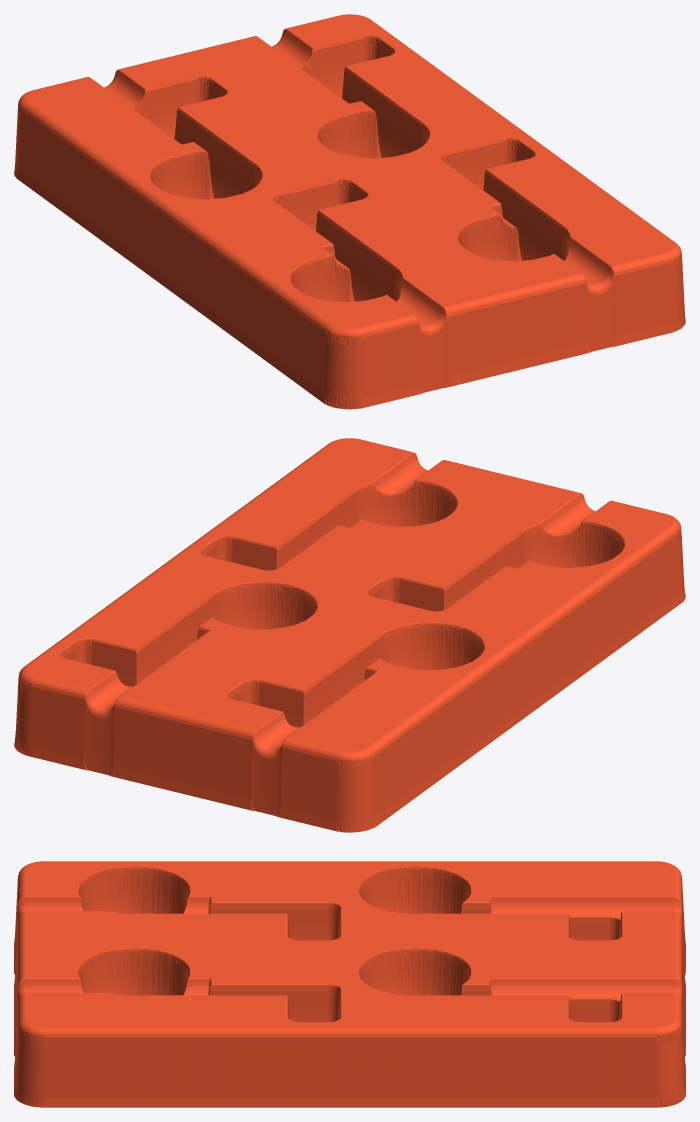
Rendered from mold.glb.
3 renders of one model, top to bottom at view 1: azimuth 30°, elevation 25°; view 2: azimuth 150°, elevation 25°; view 3: azimuth 270°, elevation 25°, orthographic.
Visible parts, largest first — view 1: geometry_0; view 2: geometry_0; view 3: geometry_0.
Boxes of the visible parts, left/top/right/bottom form: geometry_0: left=14, top=14, right=685, bottom=409; geometry_0: left=14, top=438, right=685, bottom=832; geometry_0: left=14, top=861, right=685, bottom=1107.
Size of the model in its own units: 0.1214 by 0.0245 by 0.1968.
